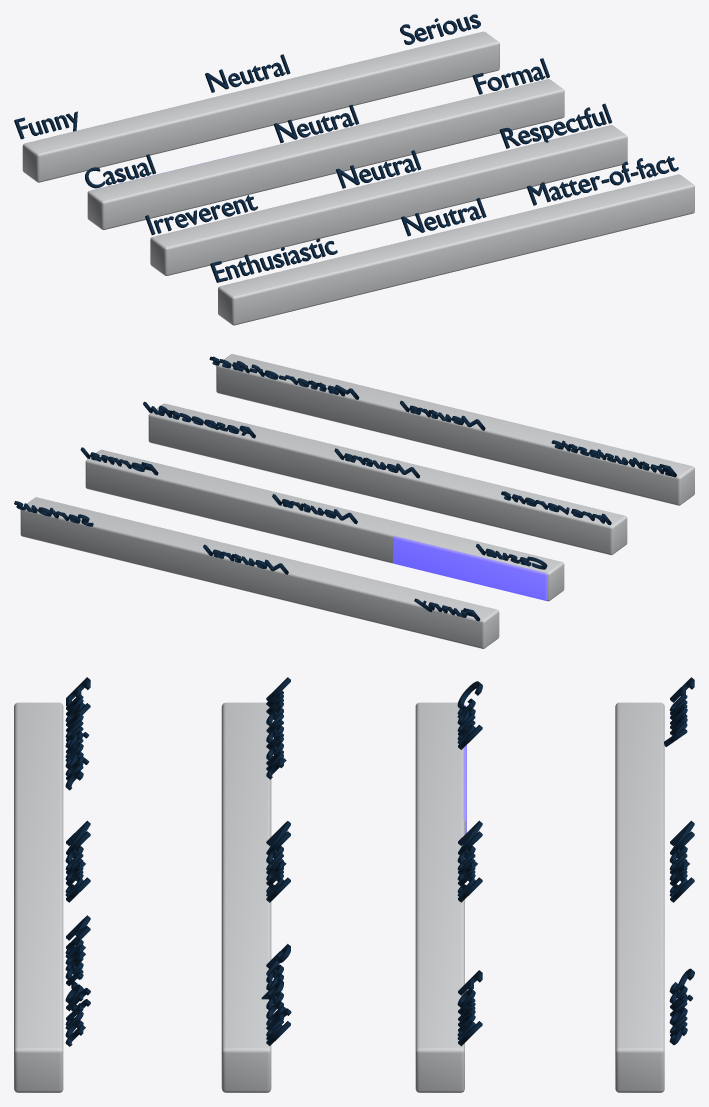
The model's file is NNG_dimensions.glb.
3 views of the same model, one above another, from view 1: azimuth 30°, elevation 25°; view 2: azimuth 150°, elevation 25°; view 3: azimuth 270°, elevation 25° (orthographic). The views are drawn at different scales.
Visible parts, largest first — view 1: Cube.006, Cube, Cube.004, Cube.002, Text.011, Text.009, Text.008, Text.006, Text.004, Text.001, Text.007, Text.010 (+4 smaller); view 2: Cube, Cube.004, Cube.006, Cube.002, Cube.003, Text.011, Text.009, Text.008, Text.006, Text.004, Text.007, Text.001 (+5 smaller); view 3: Cube.006, Cube, Cube.004, Cube.002, Text.011, Text.009, Text.008, Text.006, Text.007, Text.010, Text.004, Text.001 (+4 smaller).
Boxes of the visible parts, bbox=[...] form: Cube.006: bbox=[218, 174, 694, 325]; Cube: bbox=[22, 31, 499, 182]; Cube.004: bbox=[150, 125, 627, 275]; Cube.002: bbox=[87, 79, 564, 229]; Text.011: bbox=[526, 156, 678, 205]; Text.009: bbox=[210, 238, 337, 282]; Text.008: bbox=[499, 103, 611, 148]; Text.006: bbox=[145, 195, 257, 235]; Text.004: bbox=[273, 104, 359, 143]; Text.001: bbox=[205, 54, 290, 92]; Text.007: bbox=[336, 150, 421, 188]; Text.010: bbox=[401, 198, 486, 236]; Cube: bbox=[20, 497, 499, 648]; Cube.004: bbox=[148, 403, 627, 555]; Cube.006: bbox=[216, 354, 694, 505]; Cube.002: bbox=[85, 449, 564, 601]; Cube.003: bbox=[393, 536, 547, 600]; Text.011: bbox=[209, 356, 359, 399]; Text.009: bbox=[551, 440, 676, 477]; Text.008: bbox=[143, 401, 255, 438]; Text.006: bbox=[501, 491, 611, 525]; Text.004: bbox=[272, 494, 357, 524]; Text.007: bbox=[334, 448, 419, 478]; Text.001: bbox=[203, 544, 288, 574]; Cube.006: bbox=[14, 702, 63, 1092]; Cube: bbox=[615, 702, 664, 1092]; Cube.004: bbox=[221, 702, 271, 1092]; Cube.002: bbox=[415, 702, 464, 1092]; Text.011: bbox=[65, 915, 90, 1046]; Text.009: bbox=[65, 677, 90, 790]; Text.008: bbox=[261, 944, 291, 1045]; Text.006: bbox=[266, 677, 290, 779]; Text.007: bbox=[266, 821, 290, 902]; Text.010: bbox=[65, 821, 90, 902]; Text.004: bbox=[457, 820, 482, 902]; Text.001: bbox=[669, 820, 694, 902].
Bounding box in the file's own units: 10 × 0.9472 × 8.27.
